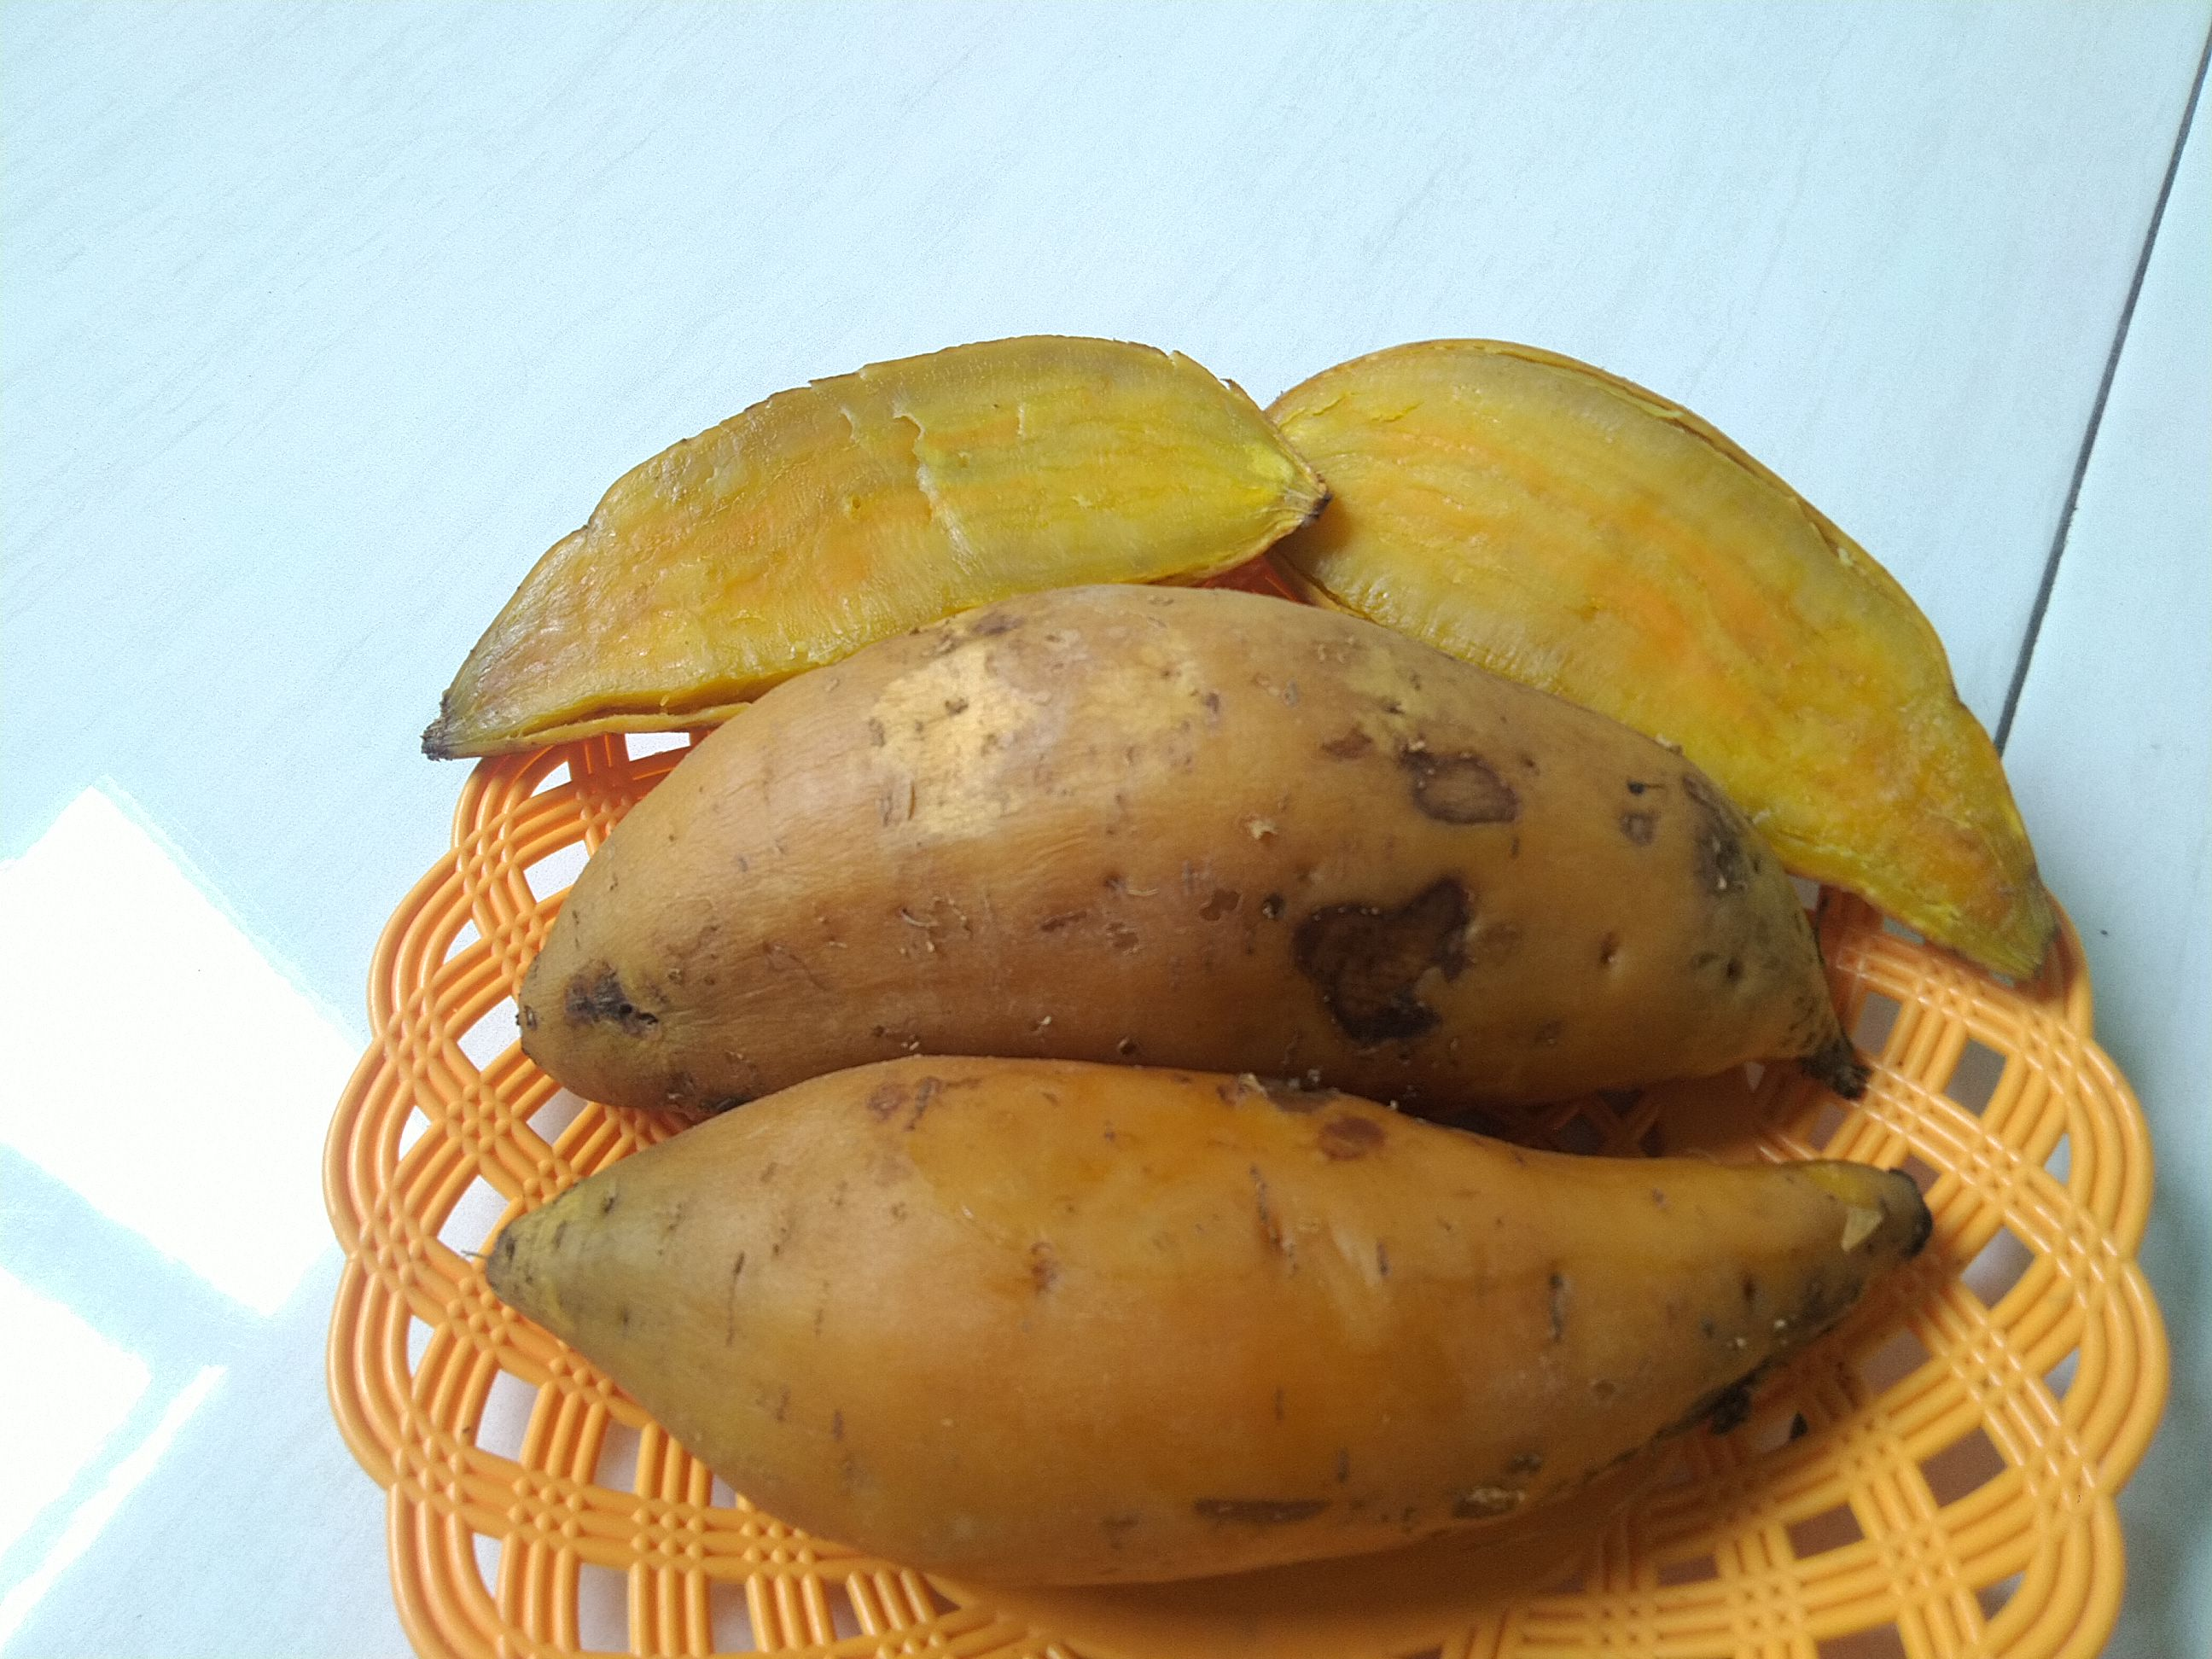ubi cilembu: (409, 314, 2078, 1591), (481, 1065, 1949, 1579), (517, 582, 1902, 1107), (1259, 333, 2078, 1016), (421, 336, 1383, 772)
